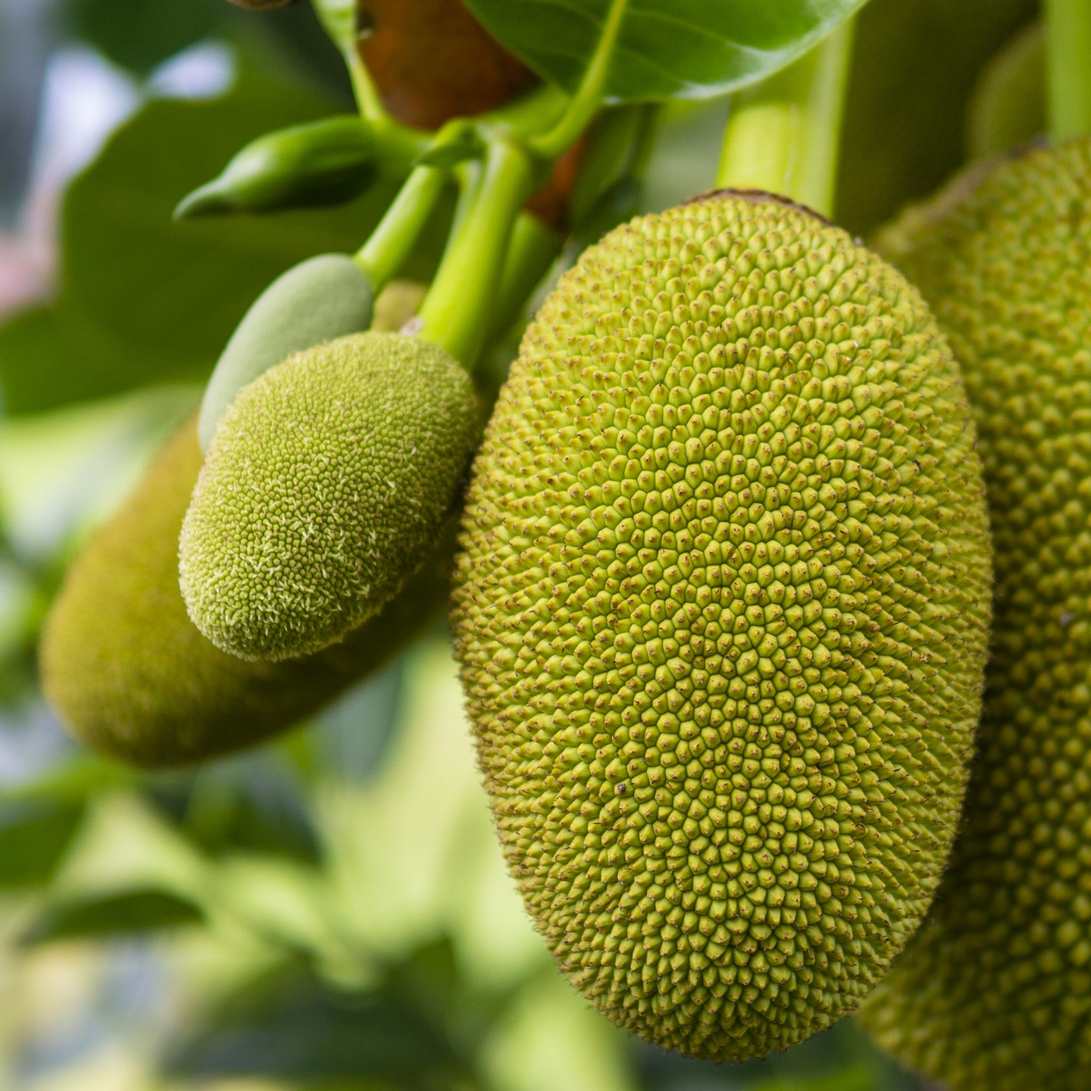mit: (455, 194, 993, 1058)
